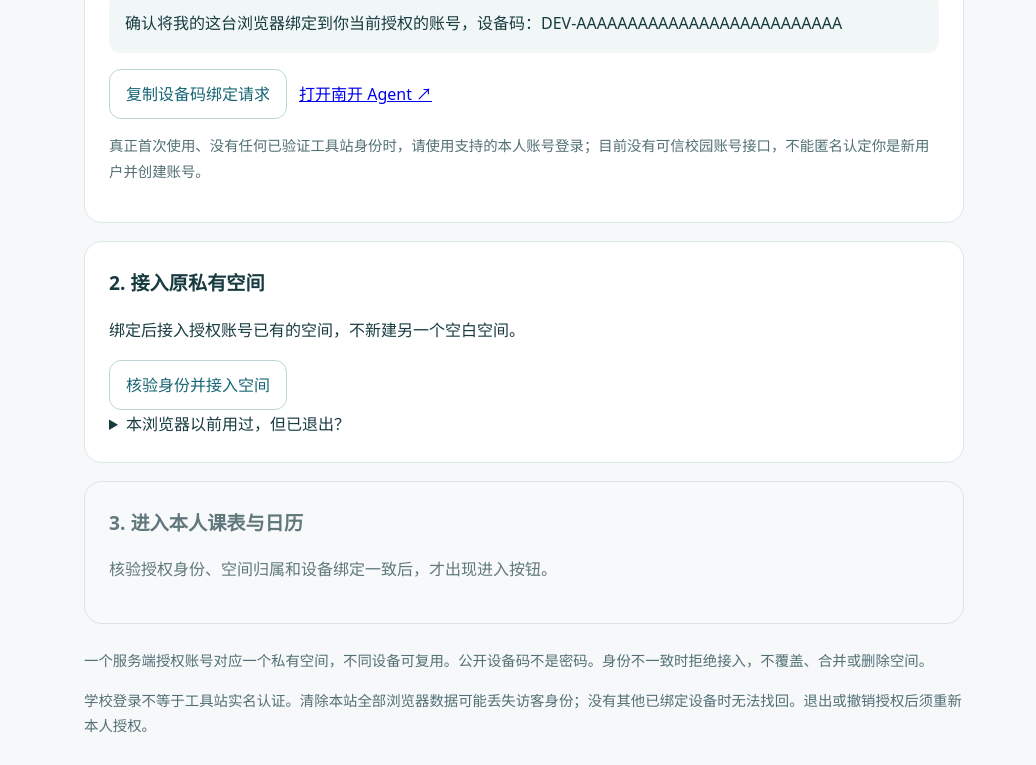
Test: checking an unknown identity never creates or navigates
(page scrolled)
Click the button "核验身份并接入空间" at (198, 385), box x1=109 y1=360 x2=287 y2=410
(page scrolled)
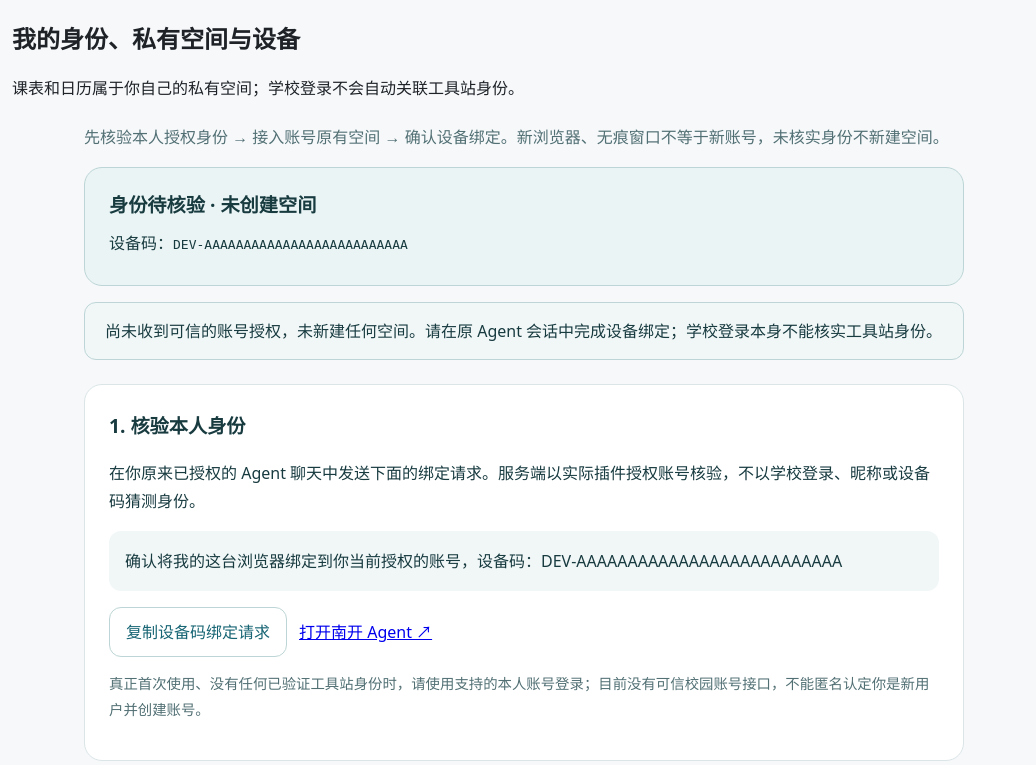
Check: the text "未新建任何空间" is shown, box x1=105 y1=320 x2=942 y2=342
Check: the message "尚未收到可信的账号授权，未新建任何空间。请在原 Agent 会话中完成设备绑定；学校登录本身不能核实工具站身份。" is shown, box x1=105 y1=317 x2=943 y2=345
